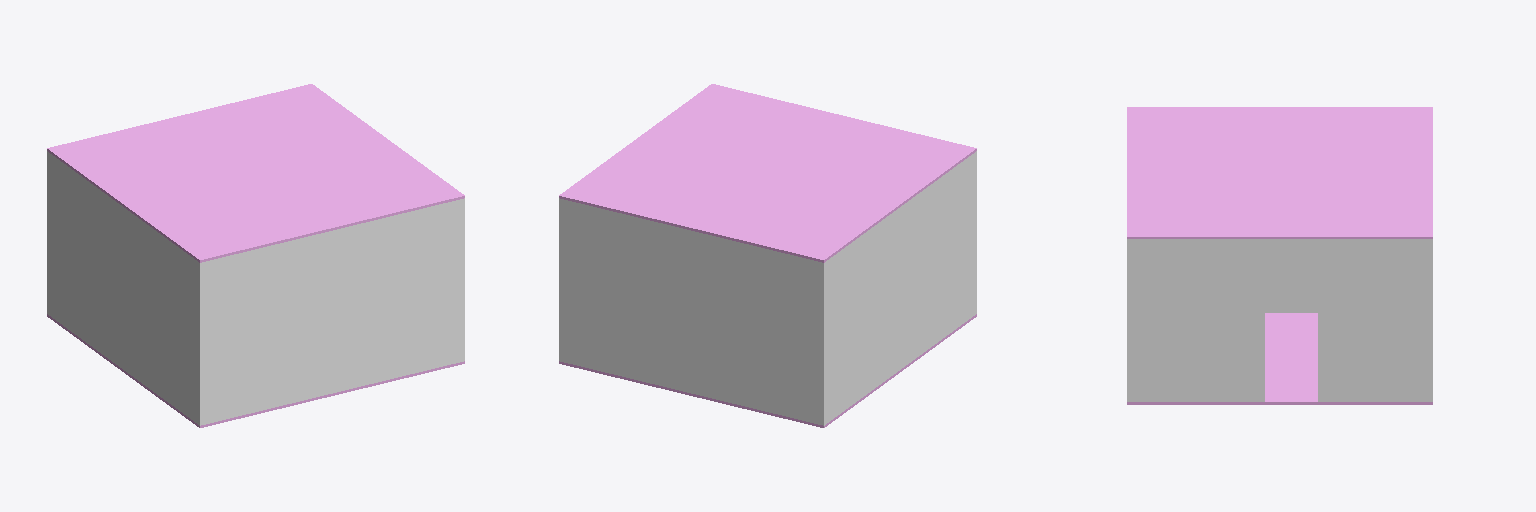
3 renders of one model, left to right at view 1: azimuth 30°, elevation 25°; view 2: azimuth 150°, elevation 25°; view 3: azimuth 270°, elevation 25°, orthographic.
Parts seen in each view (by area): view 1: object 1; view 2: object 1; view 3: object 1.
Part boxes in pixels (x1,y1,x2,y2): object 1: (47, 84, 464, 427); object 1: (559, 84, 976, 427); object 1: (1127, 107, 1432, 404).
Bounding box in the file's own units: 10.9 × 6.6 × 10.9.
Materials: 1 (1 with a texture image).